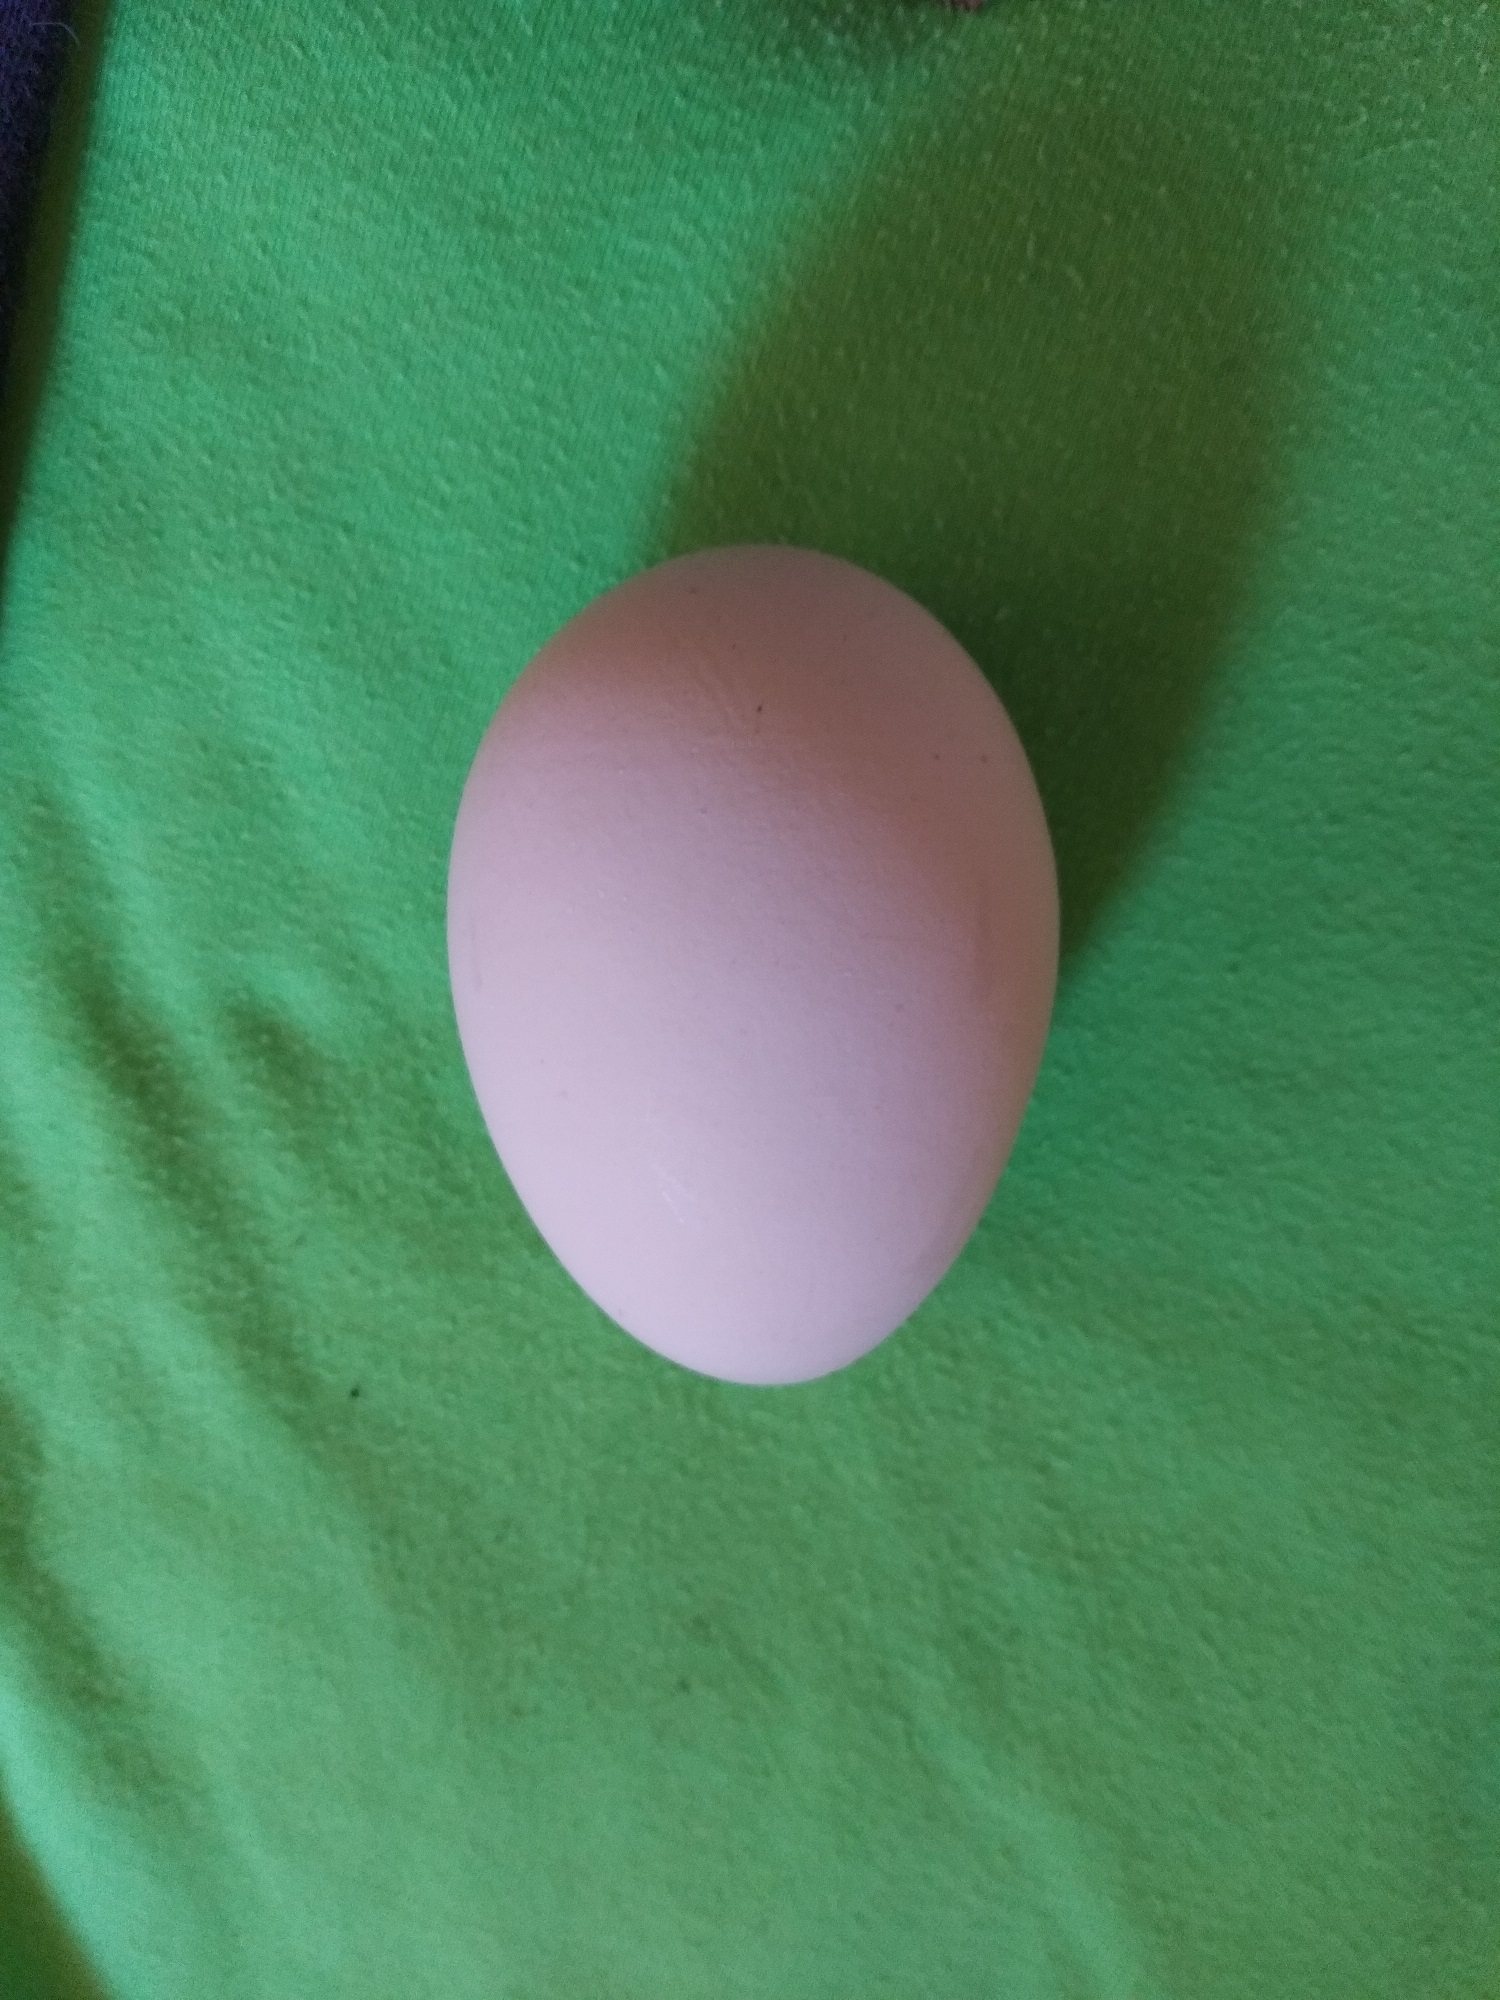Male: (440, 540, 1065, 1391)
